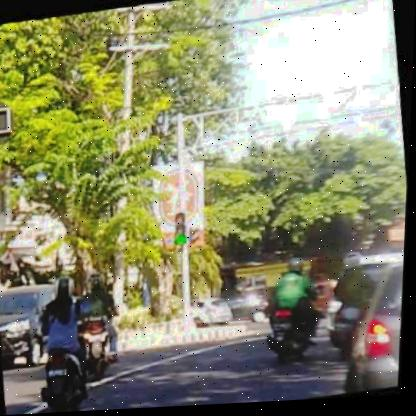Traffic Light -Green-: (173, 212, 192, 247)
